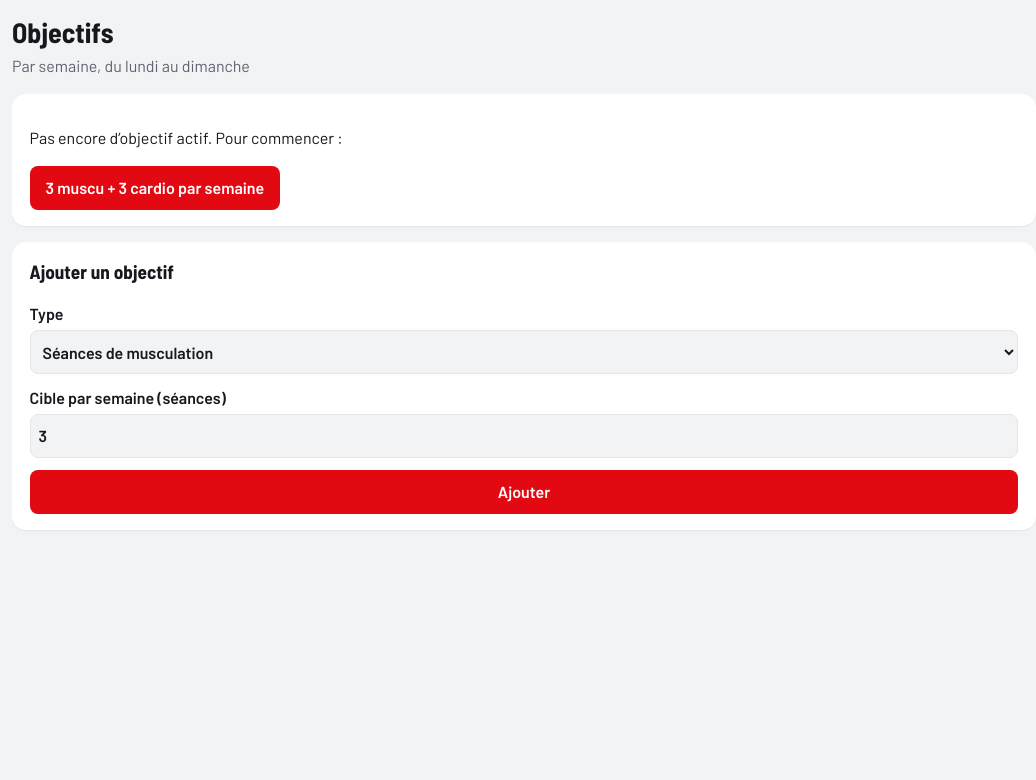
Test case: GoalsPage › checks the target bounds before sending
This screenshot has width=1036, height=780.
Step 1. Replace the text in the field labelled "Cible par semaine (séances)" with "20" → (524,436), box [30, 414, 1018, 458]
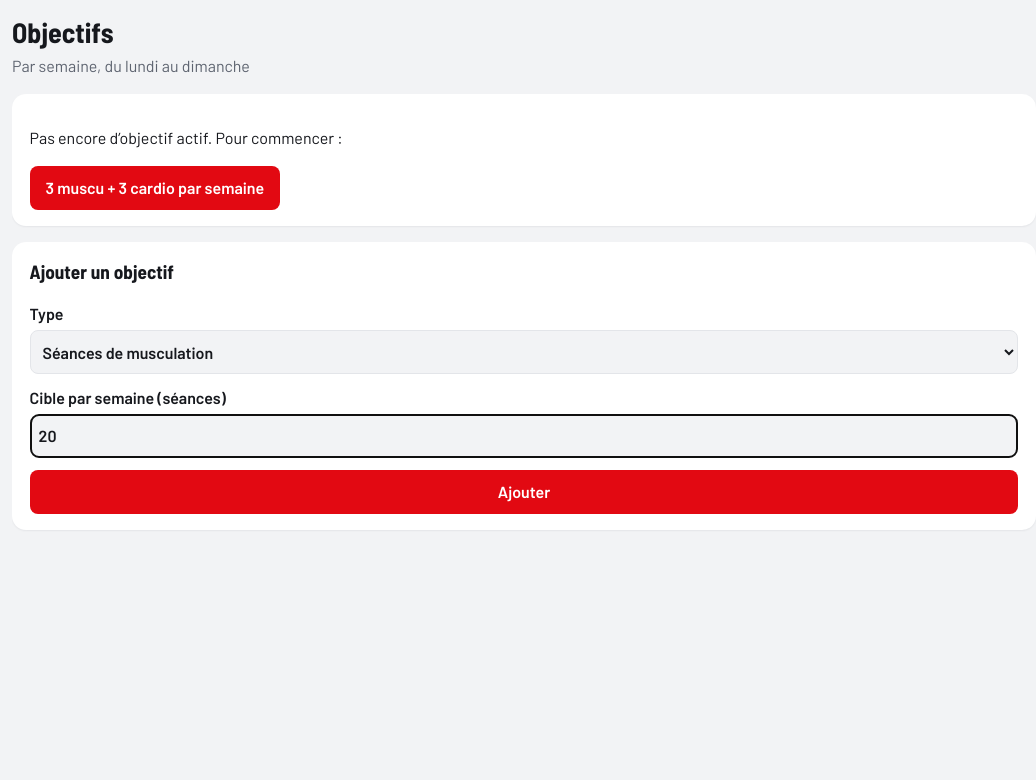
Step 2. Click the button "Ajouter" → (524,492), box [30, 470, 1018, 514]
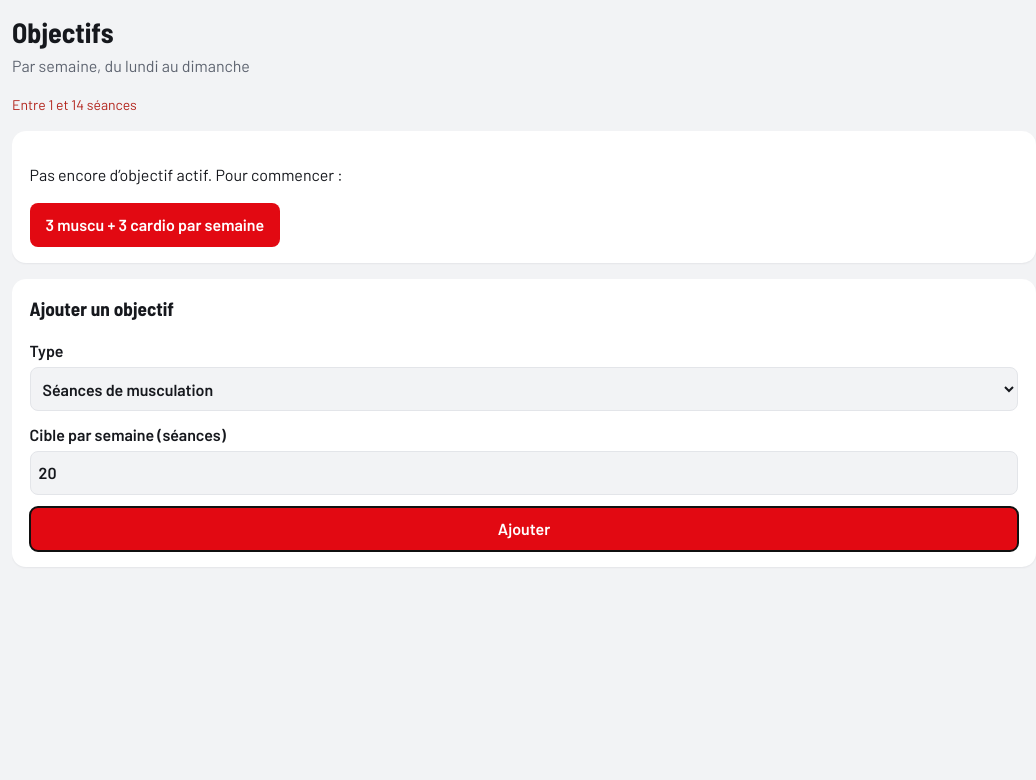
Expected: the message reads "Entre 1 et 14 séances", [12, 96, 137, 113]
